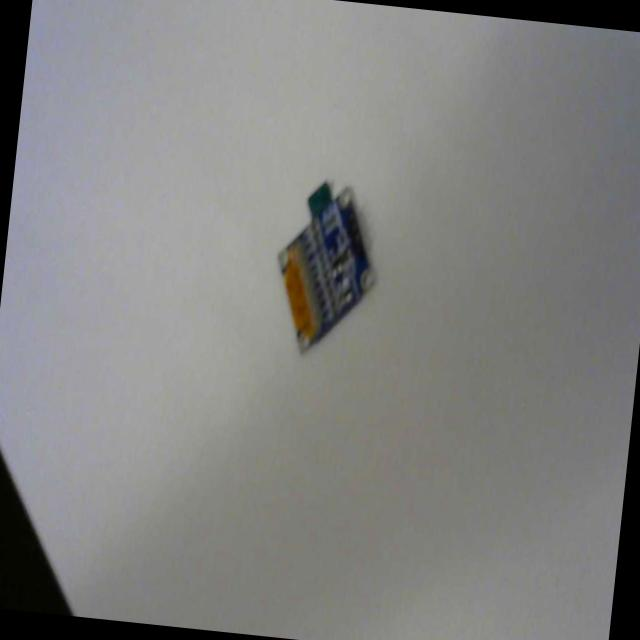oled: (260, 162, 390, 374)
